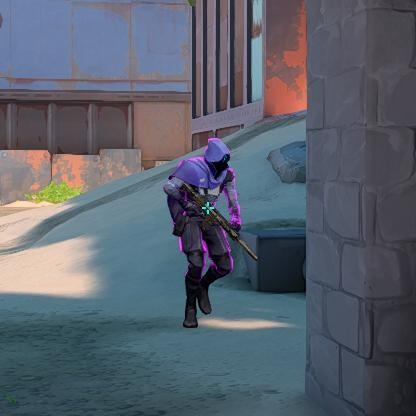enemyBody: (183, 165, 207, 220)
enemyHead: (209, 146, 227, 168)
